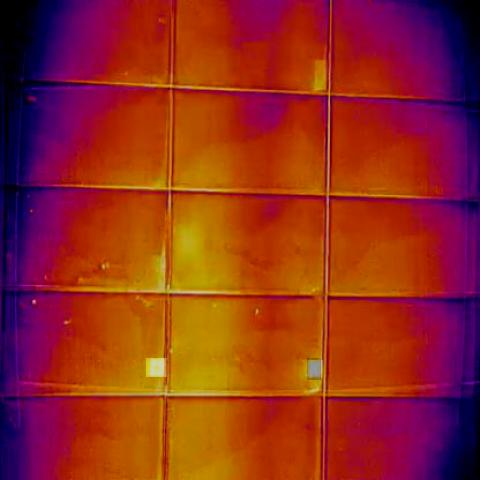fault: (146, 358, 167, 377), (308, 358, 321, 380)
